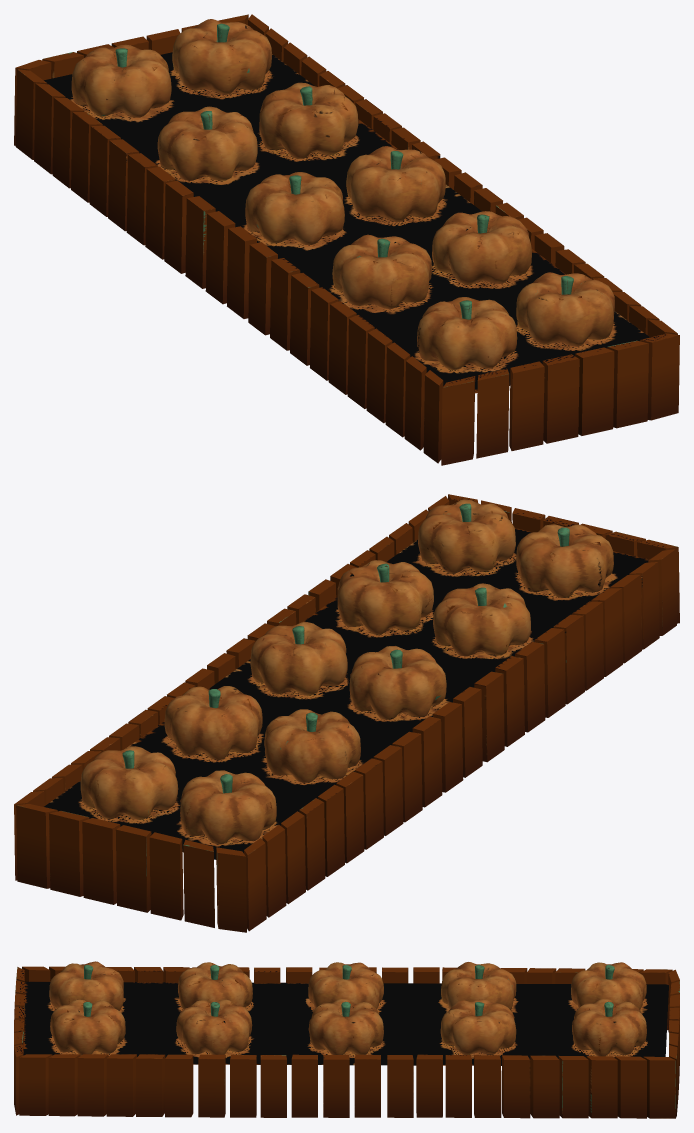
File: pumpkin.glb
3 views of the same model, one above another, from view 1: azimuth 30°, elevation 25°; view 2: azimuth 150°, elevation 25°; view 3: azimuth 270°, elevation 25° (orthographic). The views are drawn at different scales.
Parts seen in each view (by area): view 1: 4; view 2: 4; view 3: 4.
Part boxes in pixels (x1,y1,x2,y2): 4: (14,14,679,465); 4: (14,494,679,932); 4: (14,961,679,1118).
Bounding box in the file's own units: 1.91 × 0.8715 × 5.92.
1 material, 1 textured.
